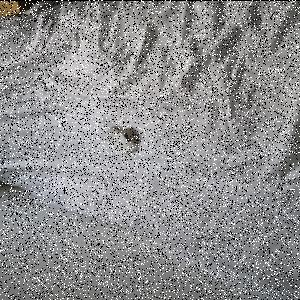Cup: (106, 125, 140, 153)
